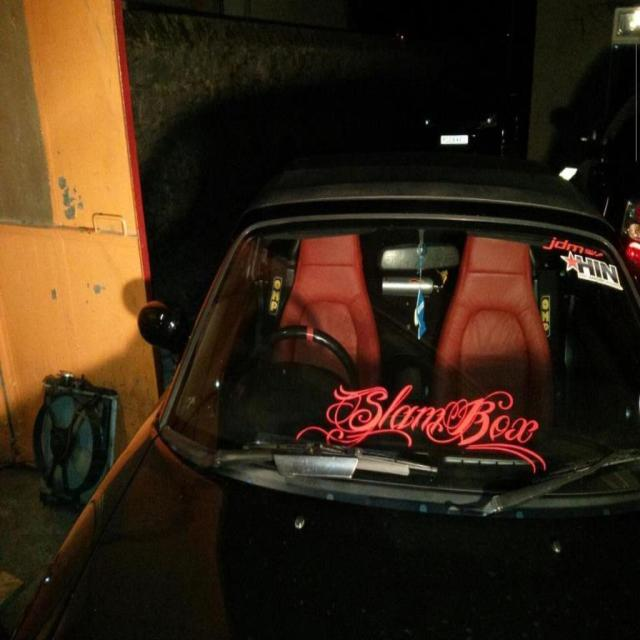Passenger Car: (1, 166, 638, 640)
